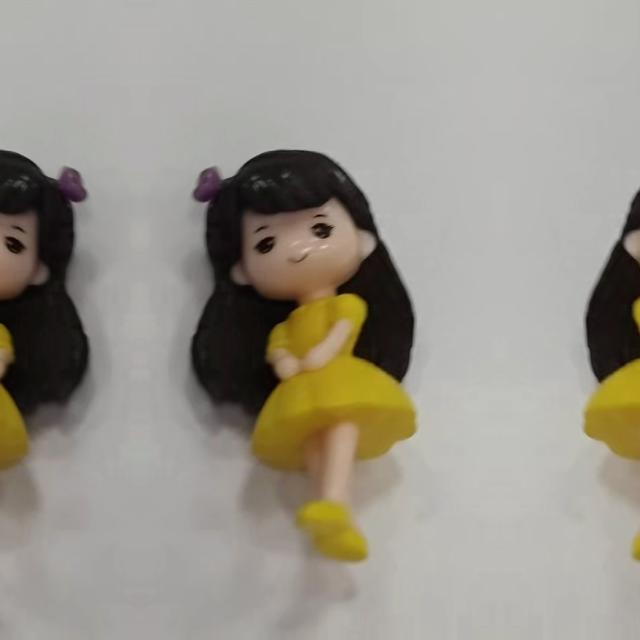woman dress: (259, 290, 425, 550), (575, 290, 640, 549), (0, 290, 21, 549)
woman head: (187, 143, 399, 305), (0, 143, 93, 305), (601, 143, 640, 305)
